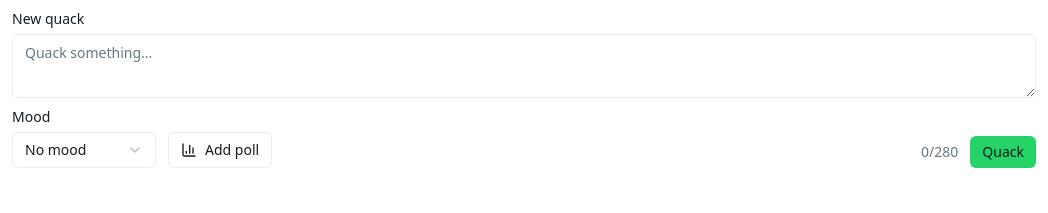
Test case: QuackForm › still needs text when there is no poll
Click the button "Quack". click: (1003, 152)
box: [970,136,1036,168]
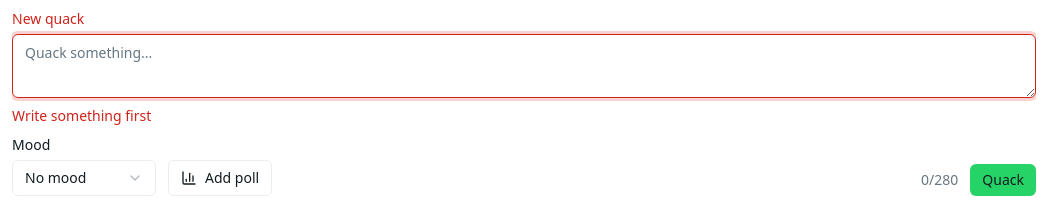
Expected: the text "Write something first" is shown, [12,106,151,125]
